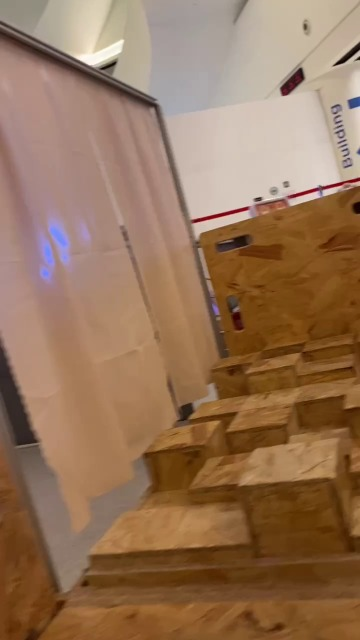curtain: (0, 13, 191, 525)
